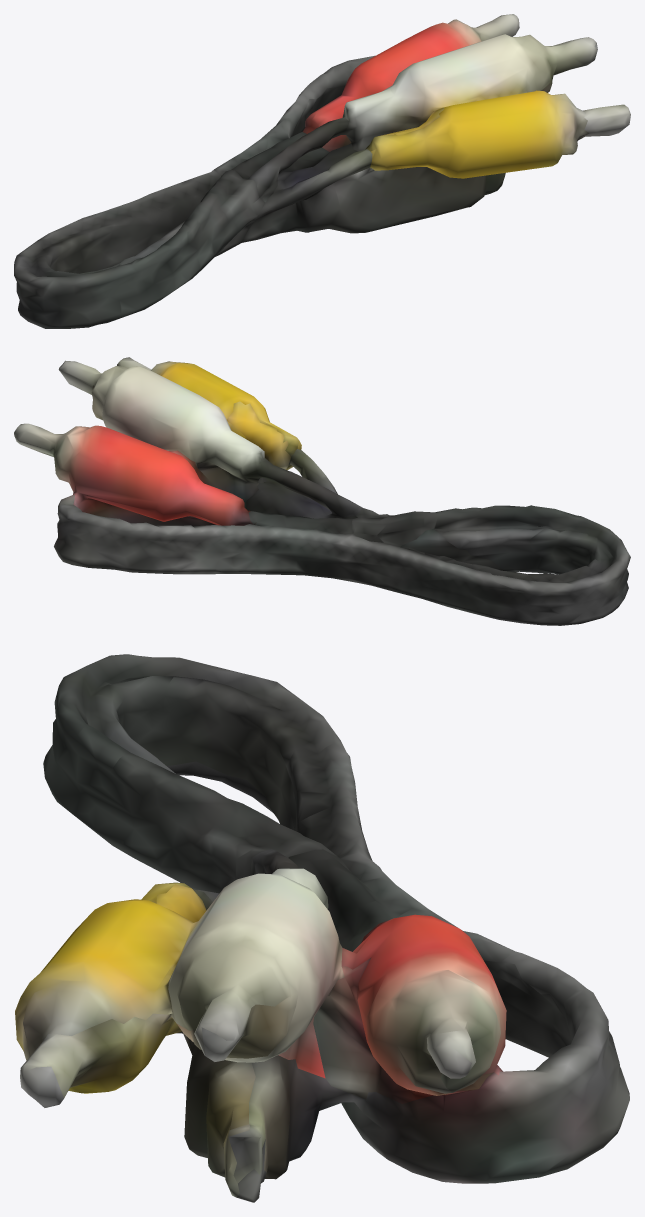
The model's file is GoPro_HERO3_Composite_Cable-medium.glb.
The picture shows the model from 3 angles, top to bottom: view 1: azimuth 30°, elevation 25°; view 2: azimuth 150°, elevation 25°; view 3: azimuth 270°, elevation 25°; orthographic projection. The views are drawn at different scales.
Visible parts, largest first — view 1: GoPro_HERO3_Composite_Cable; view 2: GoPro_HERO3_Composite_Cable; view 3: GoPro_HERO3_Composite_Cable.
Part boxes in pixels (x1,y1,x2,y2): GoPro_HERO3_Composite_Cable: (14,14,630,328); GoPro_HERO3_Composite_Cable: (14,357,630,625); GoPro_HERO3_Composite_Cable: (15,654,629,1202).
Size of the model in its own units: 0.0986 by 0.0248 by 0.0478.
Materials: 1 (1 with a texture image).
